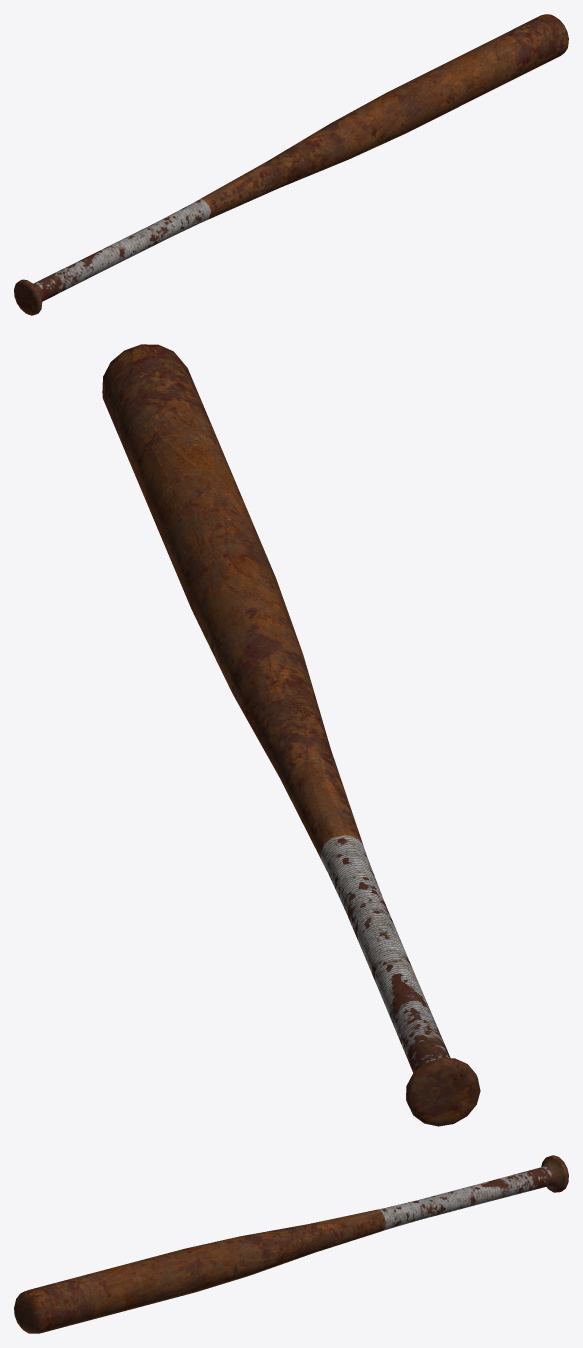
Rendered from Anim_idle_bate_objetos.0029.obj.
3 views of the same model, one above another, from view 1: azimuth 90°, elevation 25°; view 2: azimuth 150°, elevation 25°; view 3: azimuth 270°, elevation 25° (orthographic). The views are drawn at different scales.
Parts seen in each view (by area): view 1: Bate1; view 2: Bate1; view 3: Bate1.
Boxes of the visible parts, box(x1,y1,x2,y2) form: Bate1: box(14, 14, 568, 315); Bate1: box(102, 344, 480, 1126); Bate1: box(14, 1155, 568, 1333).
Size of the model in its own units: 3.76 by 0.81 by 4.11.
